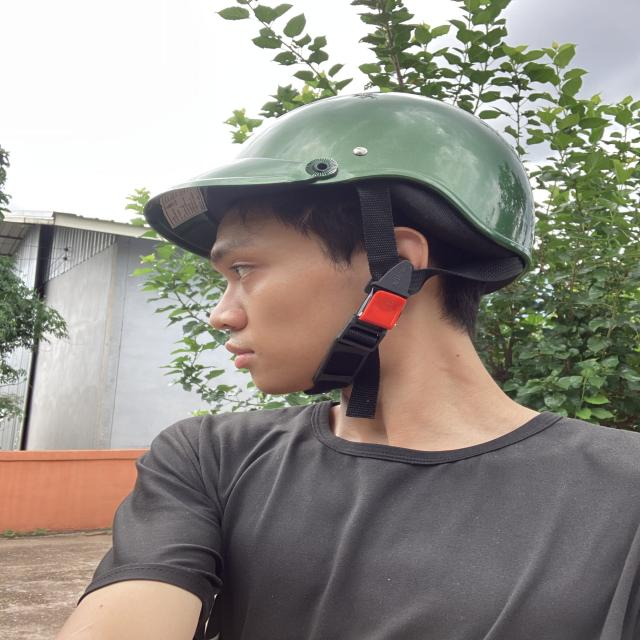helmet: (138, 86, 540, 402)
